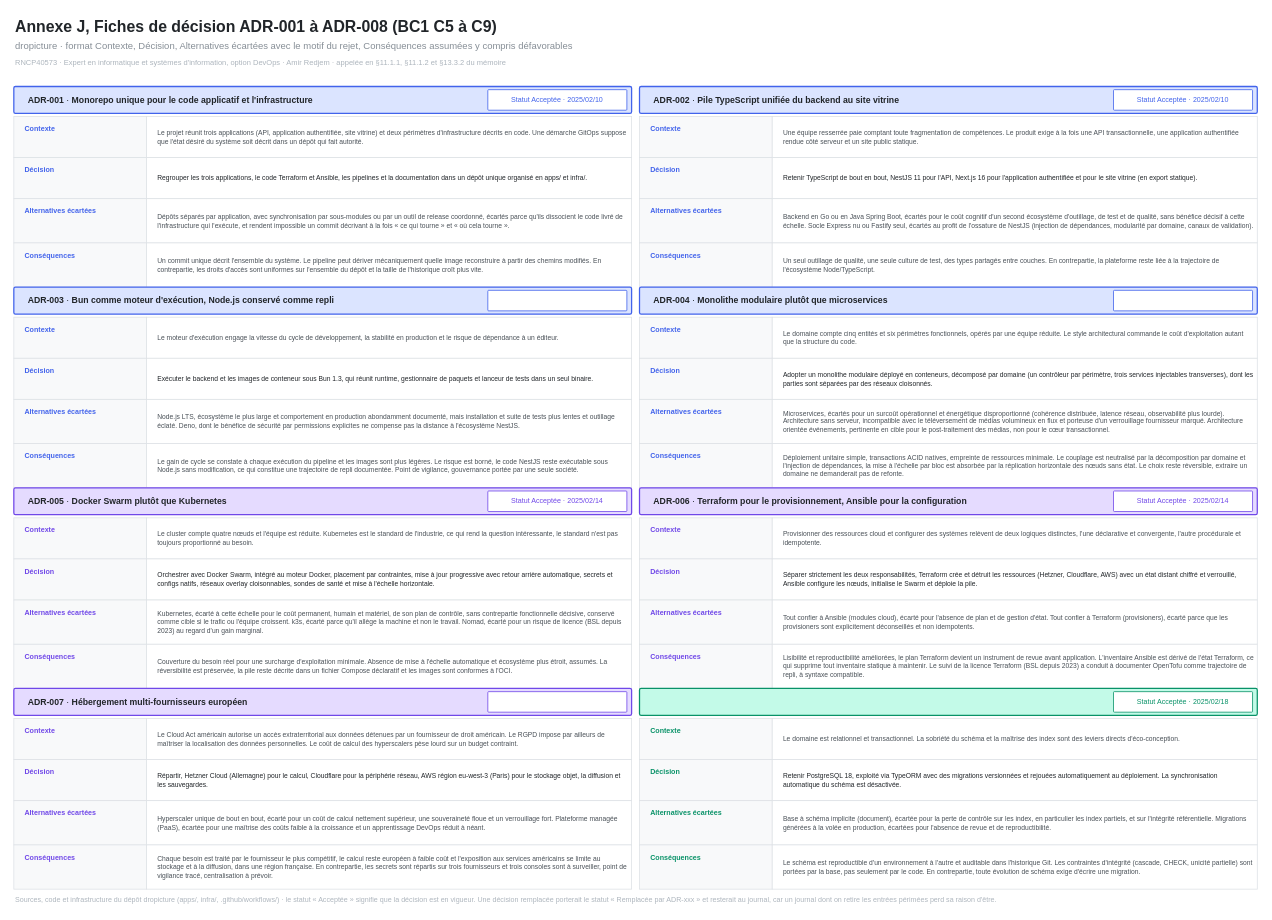
The diagram is 1272 pixels wide and 920 high, and some of its shapes have lost their labels. Each missing label, with the box of its shape:
ADR-008 · PostgreSQL avec un ORM à migrations explicites: (638, 687, 1258, 716)
Statut Acceptée · 2025/02/12: (487, 290, 627, 311)
Statut Acceptée · 2025/02/13: (1113, 290, 1253, 311)
Statut Acceptée · 2025/02/17: (487, 691, 627, 712)
